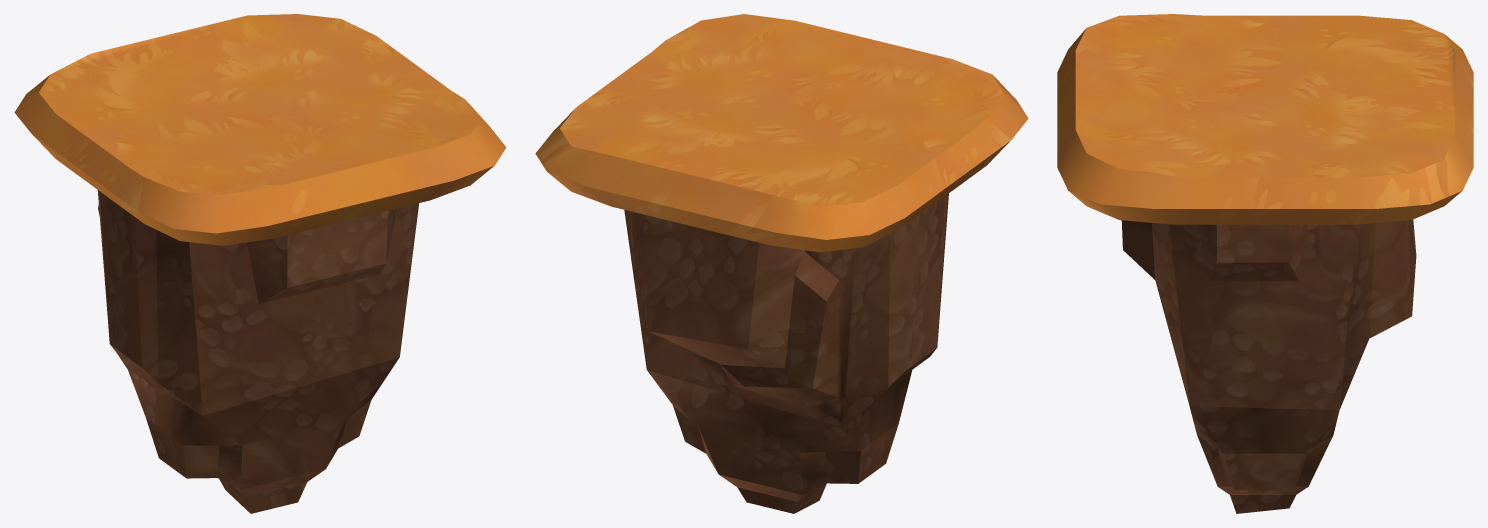
File: Ground Rounded.FBX
3 renders of one model, left to right at view 1: azimuth 30°, elevation 25°; view 2: azimuth 150°, elevation 25°; view 3: azimuth 270°, elevation 25°, orthographic. The views are drawn at different scales.
Visible parts, largest first — view 1: Object001; view 2: Object001; view 3: Object001.
Part boxes in pixels (x1,y1,x2,y2): Object001: [14, 14, 506, 513]; Object001: [535, 14, 1028, 513]; Object001: [1057, 14, 1473, 513].
Bounding box in the file's own units: 43.11 × 46.54 × 42.64.
